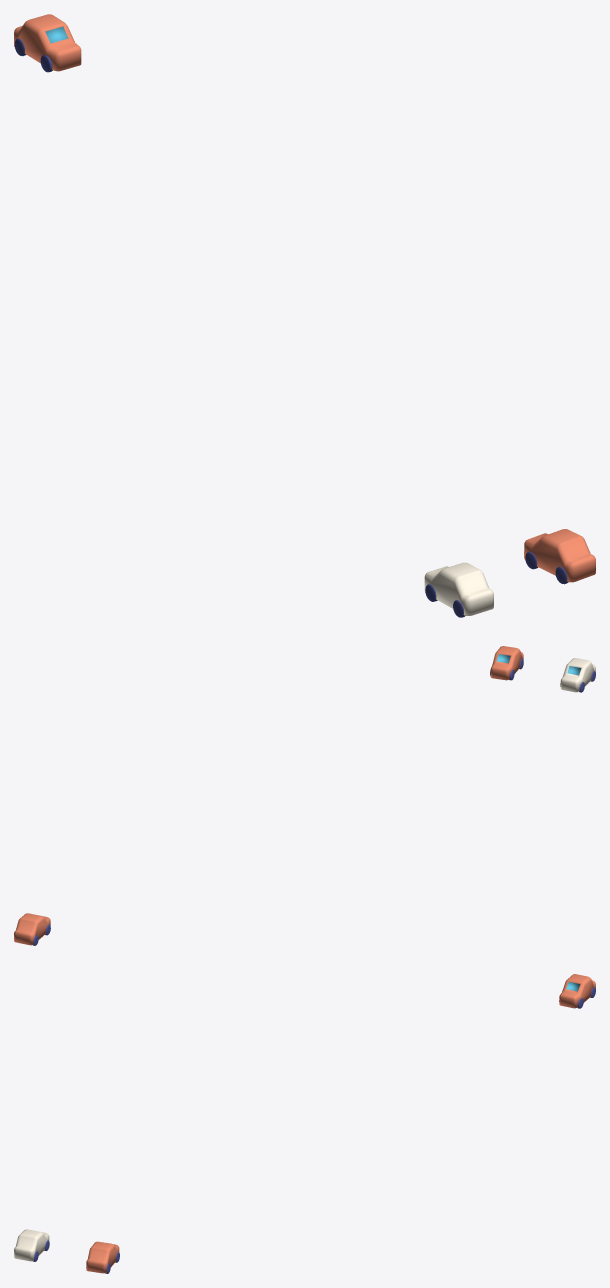
3 views of the same model, one above another, from view 1: azimuth 30°, elevation 25°; view 2: azimuth 150°, elevation 25°; view 3: azimuth 330°, elevation 25° (orthographic). The views are drawn at different scales.
Parts seen in each view (by area): view 1: 立方体014_3, 立方体014, 立方体014_1; view 2: 立方体014_3, 立方体014; view 3: 立方体014_3, 立方体014.
Part boxes in pixels (left/top/right/bottom): 立方体014_3: left=14, top=14, right=595, bottom=582; 立方体014: left=424, top=562, right=493, bottom=615; 立方体014_1: left=14, top=38, right=568, bottom=617; 立方体014_3: left=14, top=646, right=523, bottom=945; 立方体014: left=560, top=658, right=595, bottom=692; 立方体014_3: left=86, top=974, right=595, bottom=1273; 立方体014: left=14, top=1229, right=49, bottom=1261.
Bounding box in the file's own units: 11.38 × 1.4 × 47.94.
